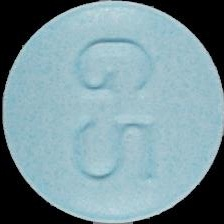0378-1190: (0, 0, 224, 224)
